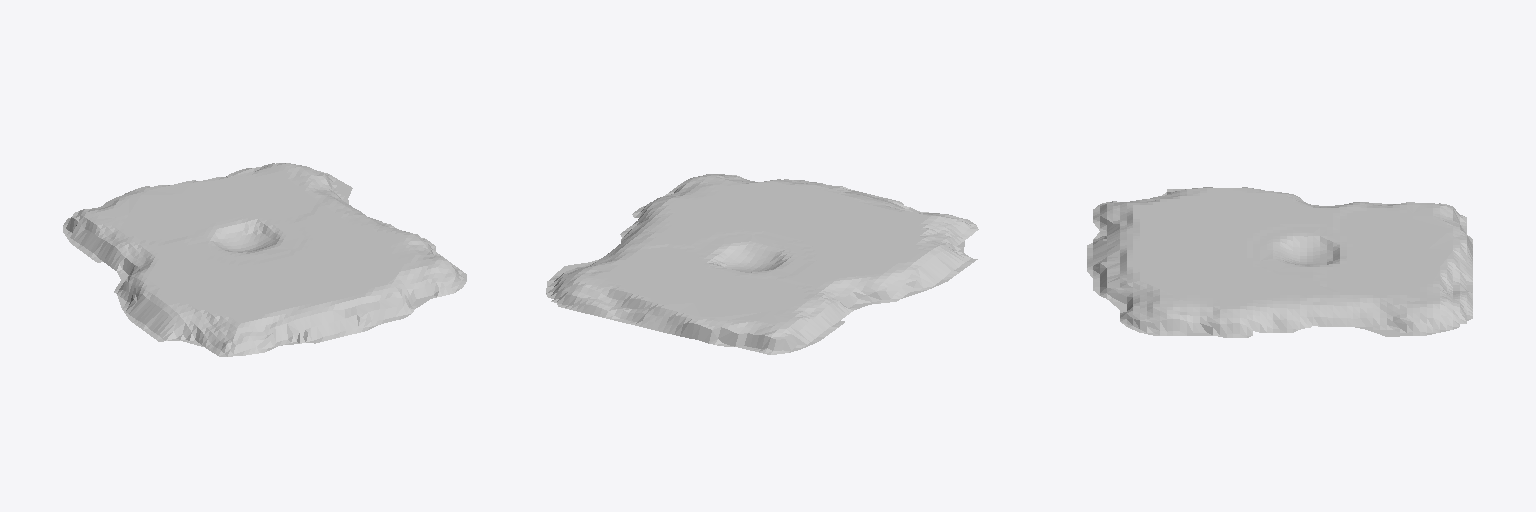
The model's file is Terrain (ID_26496).obj.
3 renders of one model, left to right at view 1: azimuth 30°, elevation 25°; view 2: azimuth 150°, elevation 25°; view 3: azimuth 270°, elevation 25°, orthographic.
Parts seen in each view (by area): view 1: Terrain_(ID_26496).005; view 2: Terrain_(ID_26496).005; view 3: Terrain_(ID_26496).005.
Part boxes in pixels (x1,y1,x2,y2): Terrain_(ID_26496).005: (63, 163, 466, 356); Terrain_(ID_26496).005: (546, 174, 978, 354); Terrain_(ID_26496).005: (1087, 187, 1472, 337).
Size of the model in its own units: 58.89 by 2.82 by 64.44.